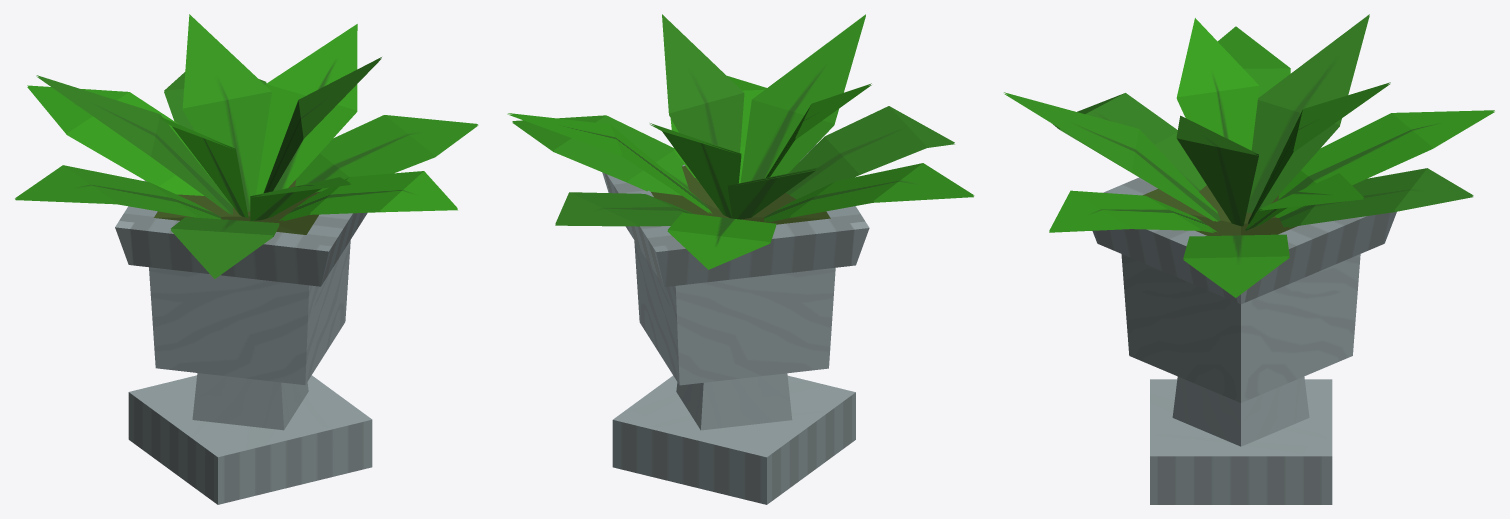
The model's file is Potted Plant 01.fbx.
The picture shows the model from 3 angles, left to right: view 1: azimuth 30°, elevation 25°; view 2: azimuth 150°, elevation 25°; view 3: azimuth 270°, elevation 25°; orthographic projection. The views are drawn at different scales.
Parts seen in each view (by area): view 1: Potted_Plant_01; view 2: Potted_Plant_01; view 3: Potted_Plant_01.
Boxes of the visible parts, x1,y1,x2,y2 form: Potted_Plant_01: (15, 14, 478, 504); Potted_Plant_01: (507, 14, 974, 504); Potted_Plant_01: (1004, 14, 1494, 504).
Bounding box in the file's own units: 216 × 175 × 194.
